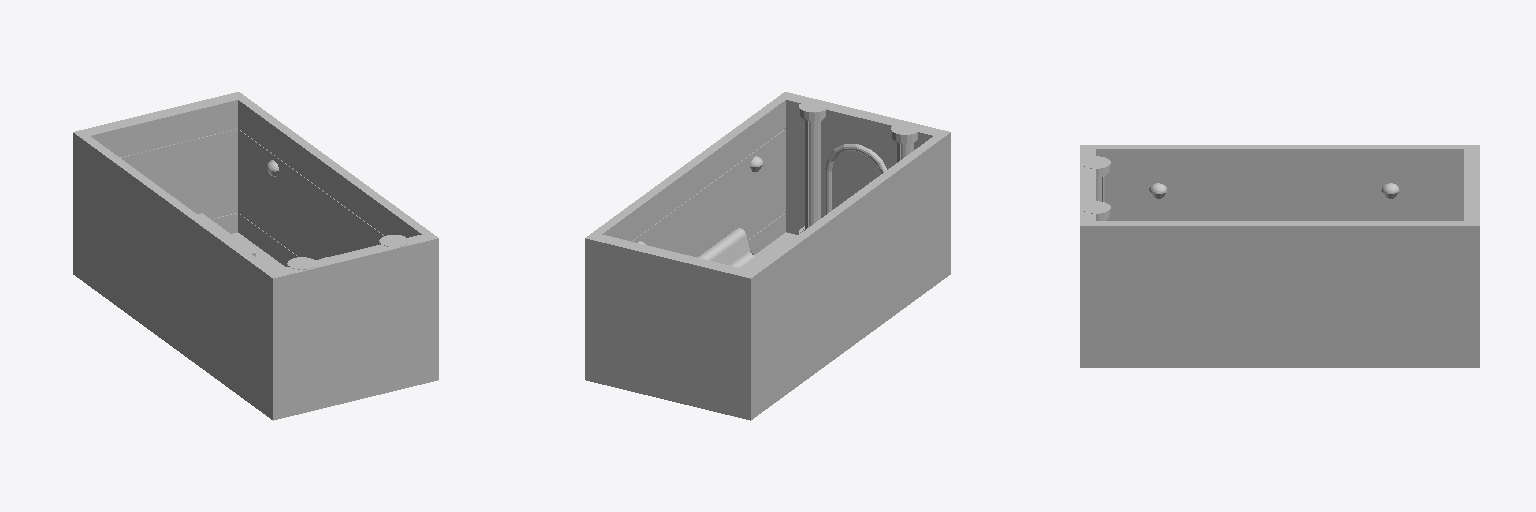
File: kurs.obj
3 renders of one model, left to right at view 1: azimuth 30°, elevation 25°; view 2: azimuth 150°, elevation 25°; view 3: azimuth 270°, elevation 25°, orthographic.
Visible parts, largest first — view 1: Cube.003, Цилиндр.001; view 2: Cube.003, Цилиндр.001, Куб.005, Cube.005; view 3: Cube.003, Цилиндр.001.
Boxes of the visible parts, <box> form: Cube.003: <box>73,92,438,420</box>; Цилиндр.001: <box>287,235,408,269</box>; Cube.003: <box>585,92,950,420</box>; Цилиндр.001: <box>799,100,920,233</box>; Куб.005: <box>697,228,764,269</box>; Cube.005: <box>825,144,886,214</box>; Cube.003: <box>1080,145,1479,367</box>; Цилиндр.001: <box>1082,156,1110,220</box>.
Bounding box in the file's own units: 20.9 × 17.11 × 43.65.